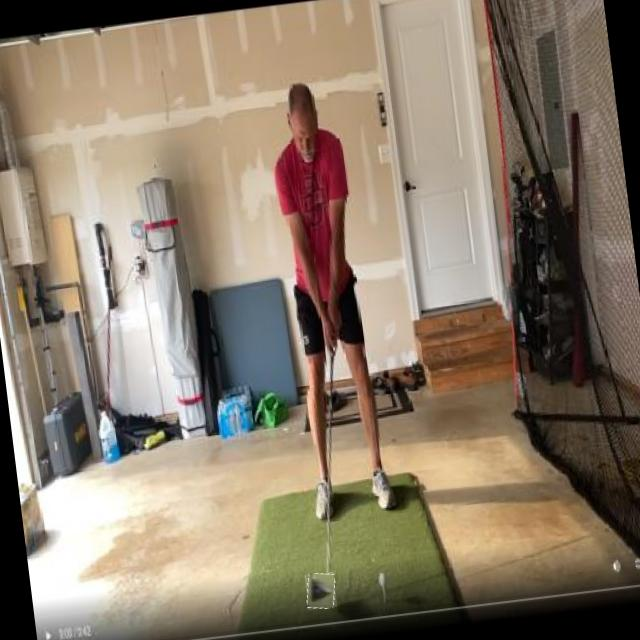club head: (304, 572, 337, 610)
